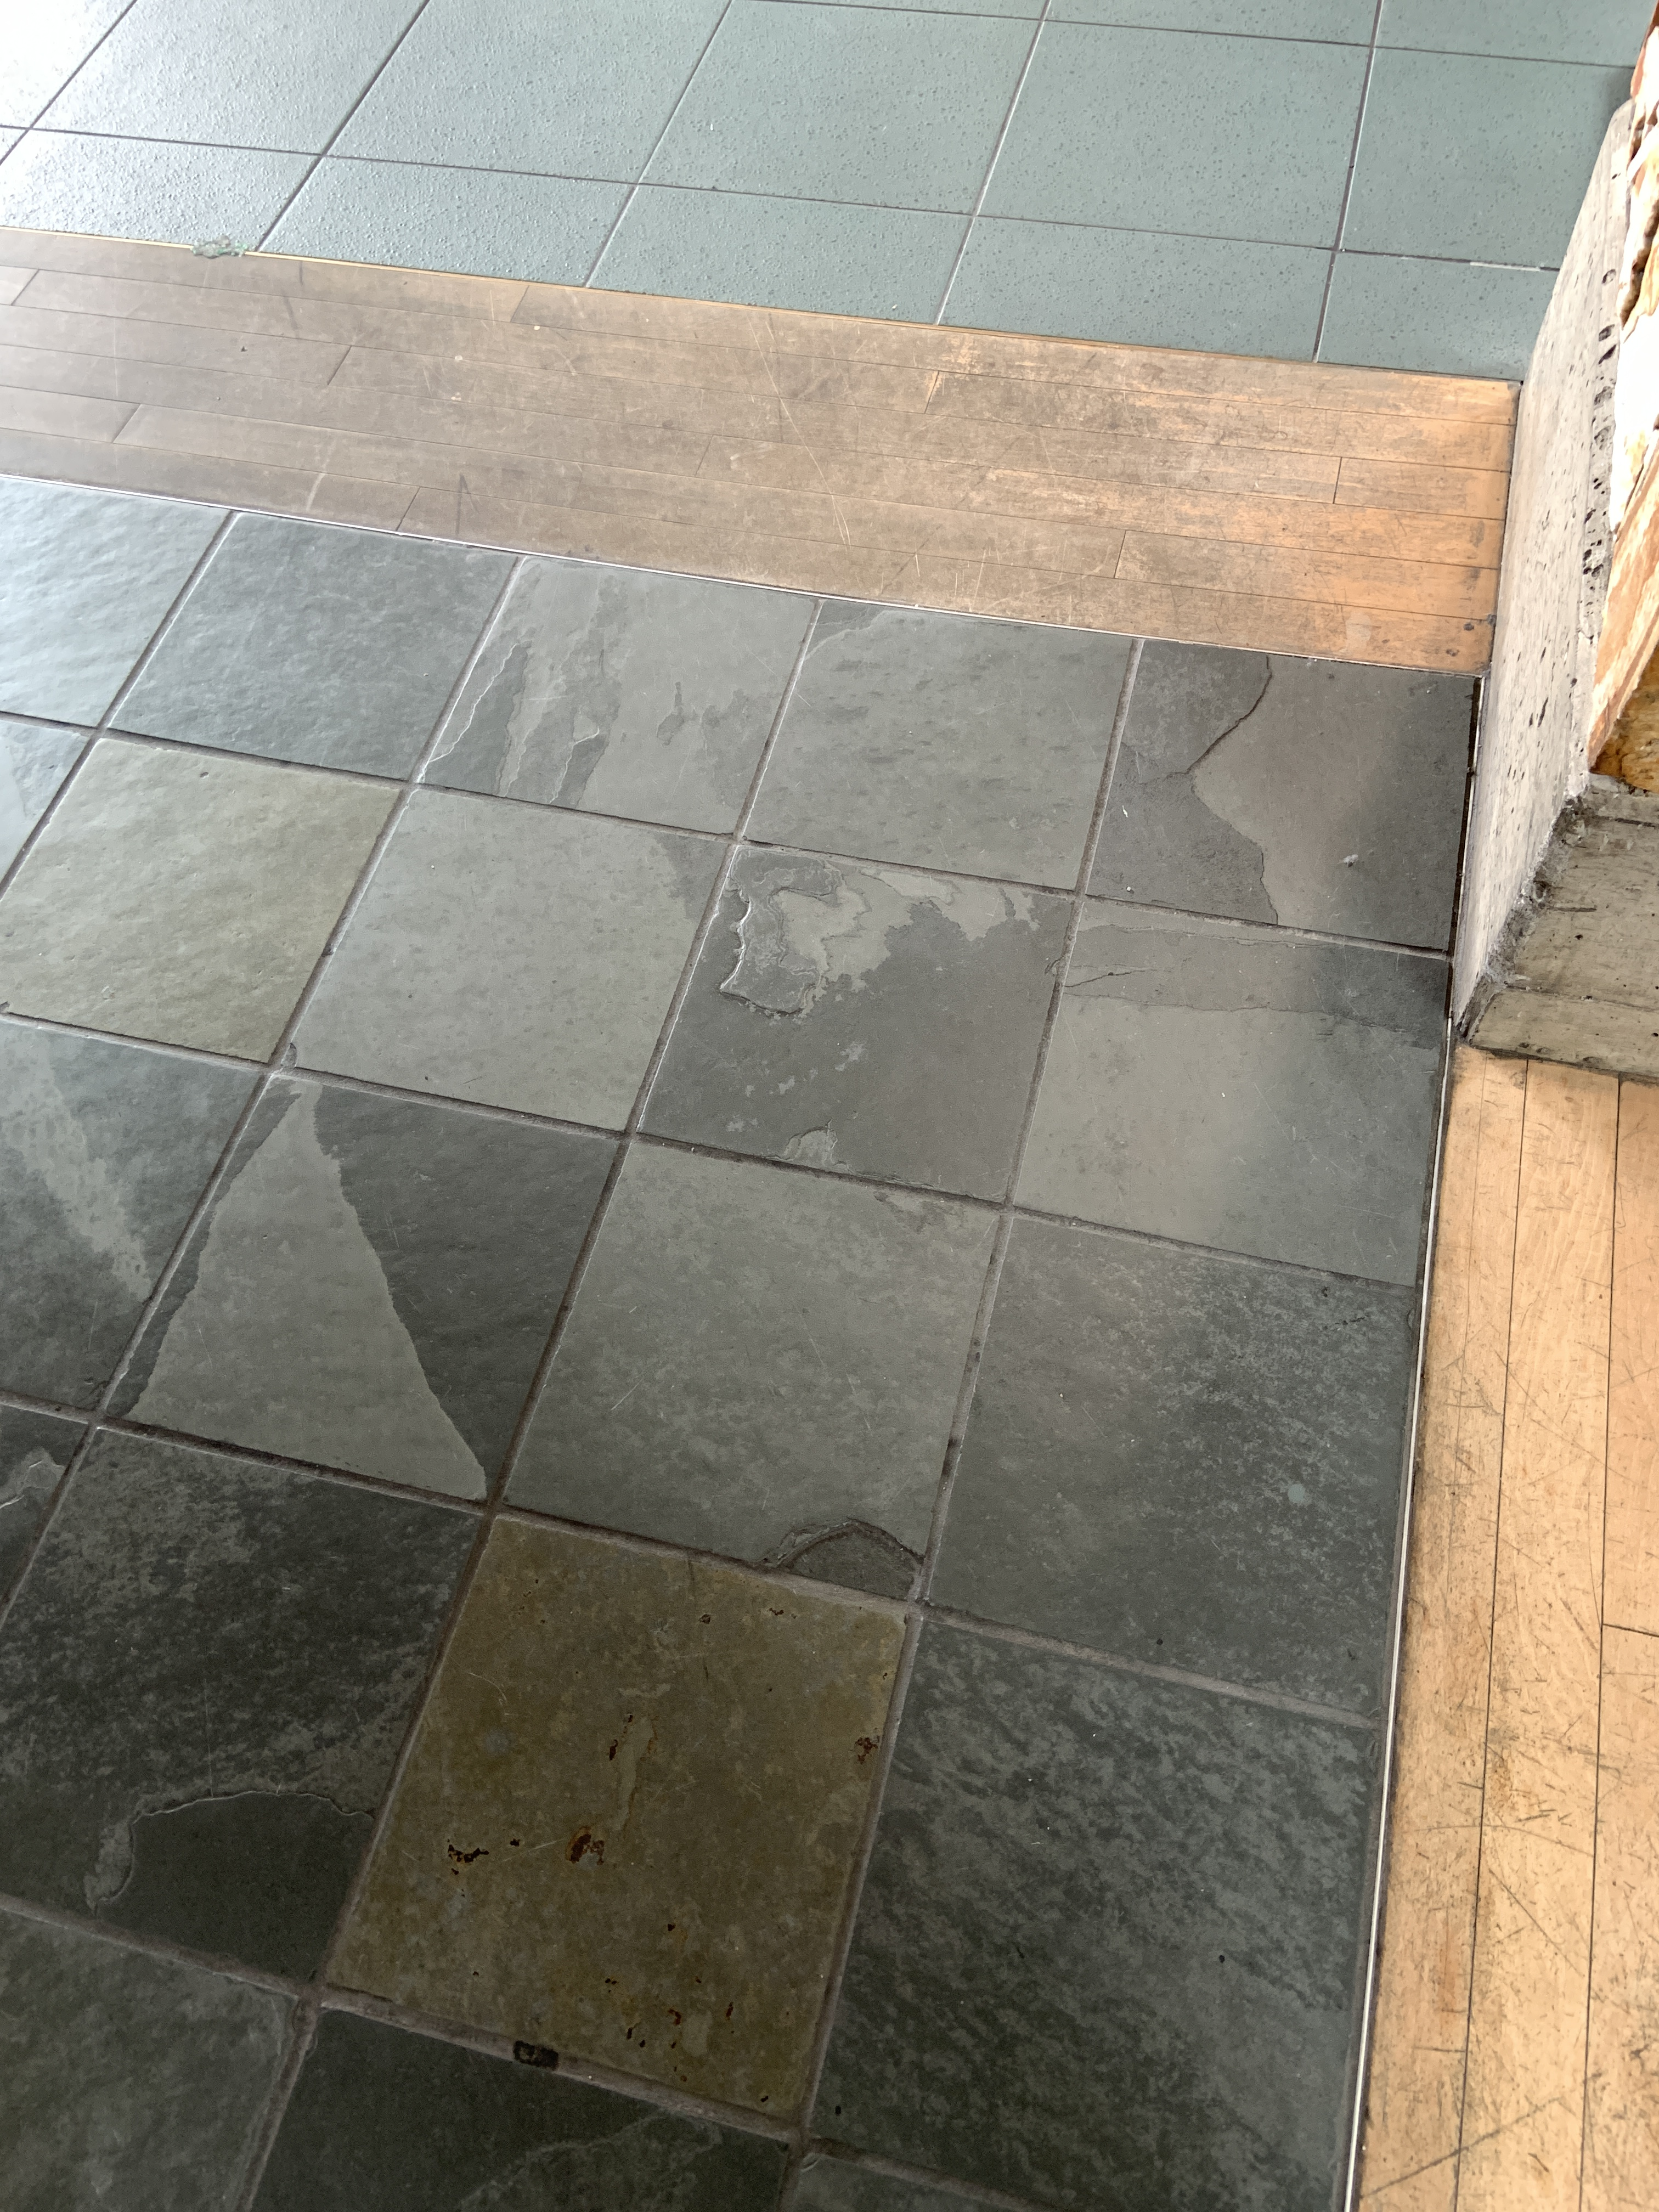Defect: (1176, 631, 1473, 946), (763, 1500, 945, 1615)
